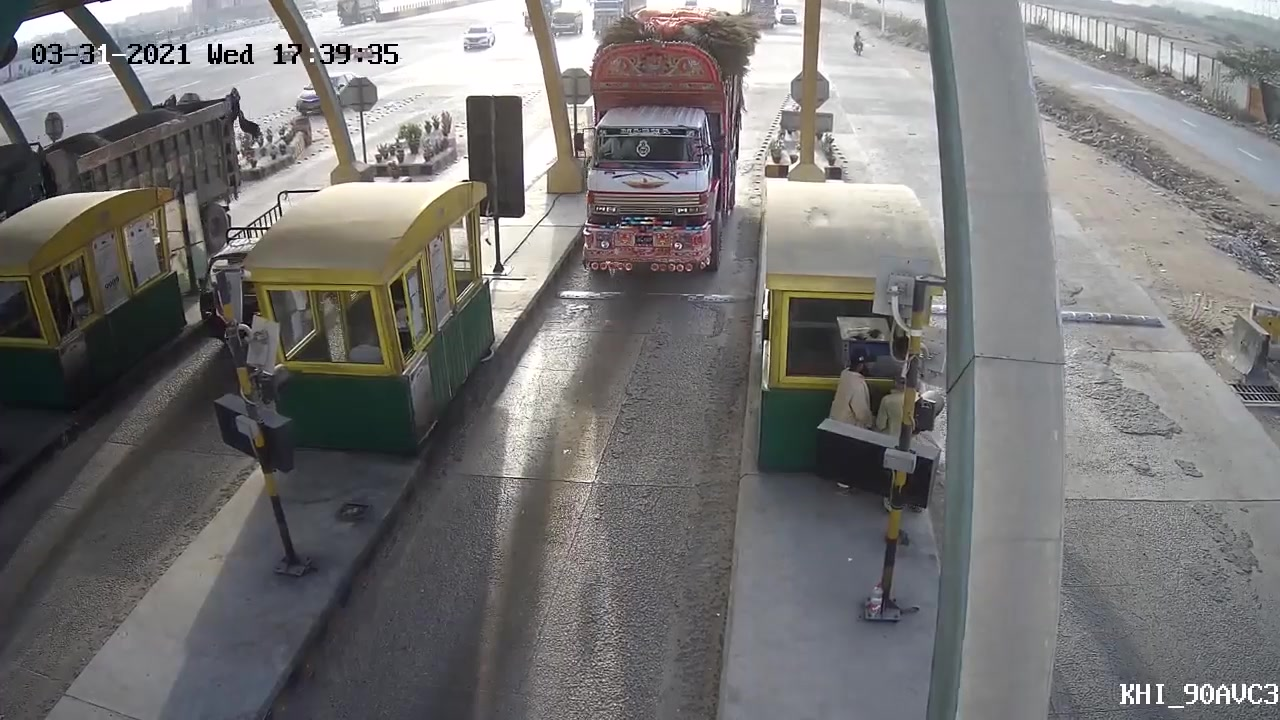F5: (556, 36, 729, 282)
